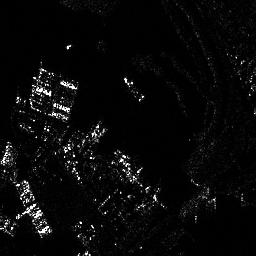ship: (123, 76, 146, 102)
